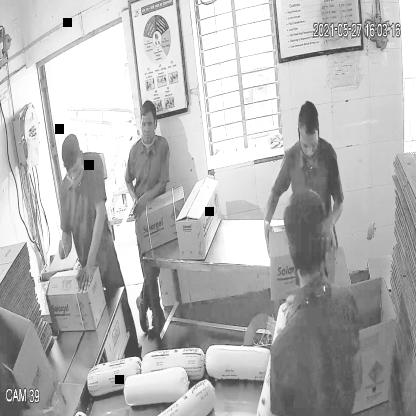no_goggles: (296, 132, 323, 155), (139, 115, 157, 133)
